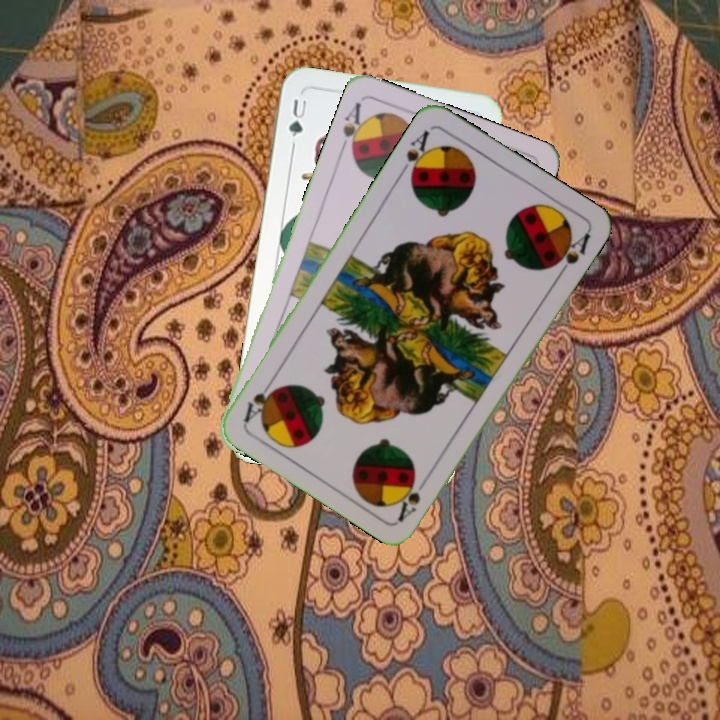GU: (284, 95, 310, 140)
SA: (395, 125, 436, 184), (393, 472, 433, 524), (336, 98, 370, 158)
